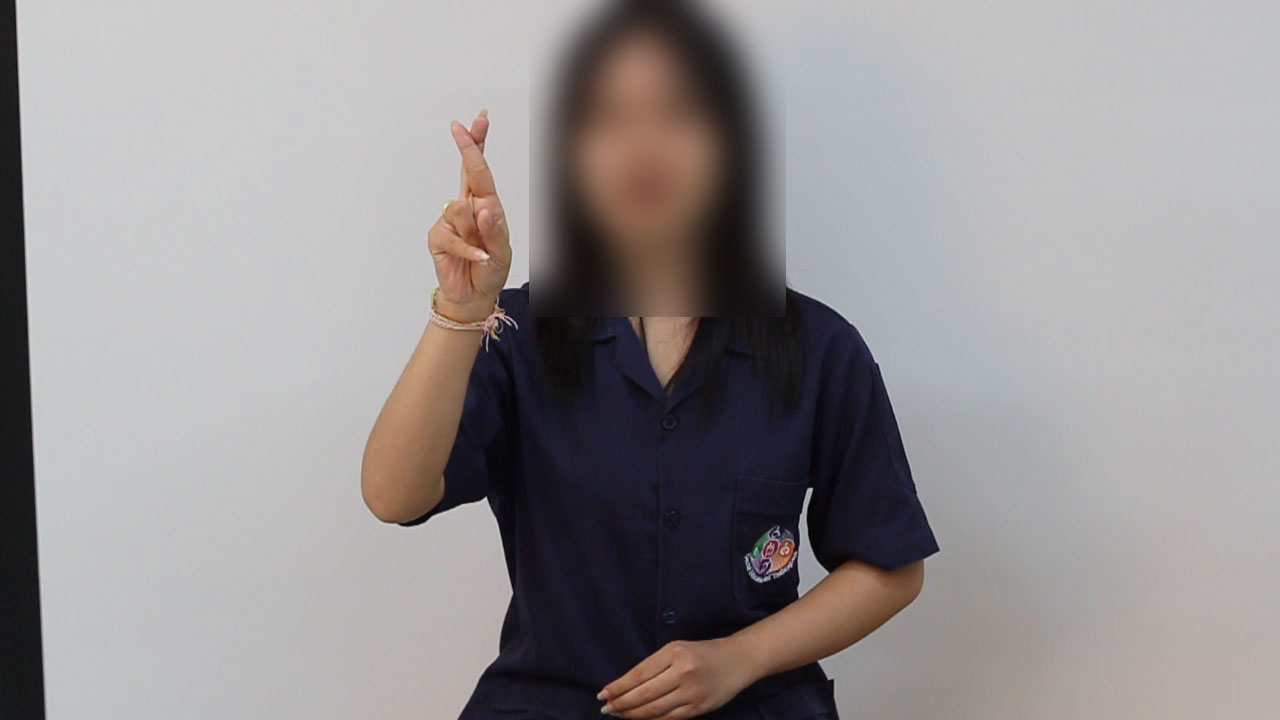rao: (407, 103, 529, 336)
